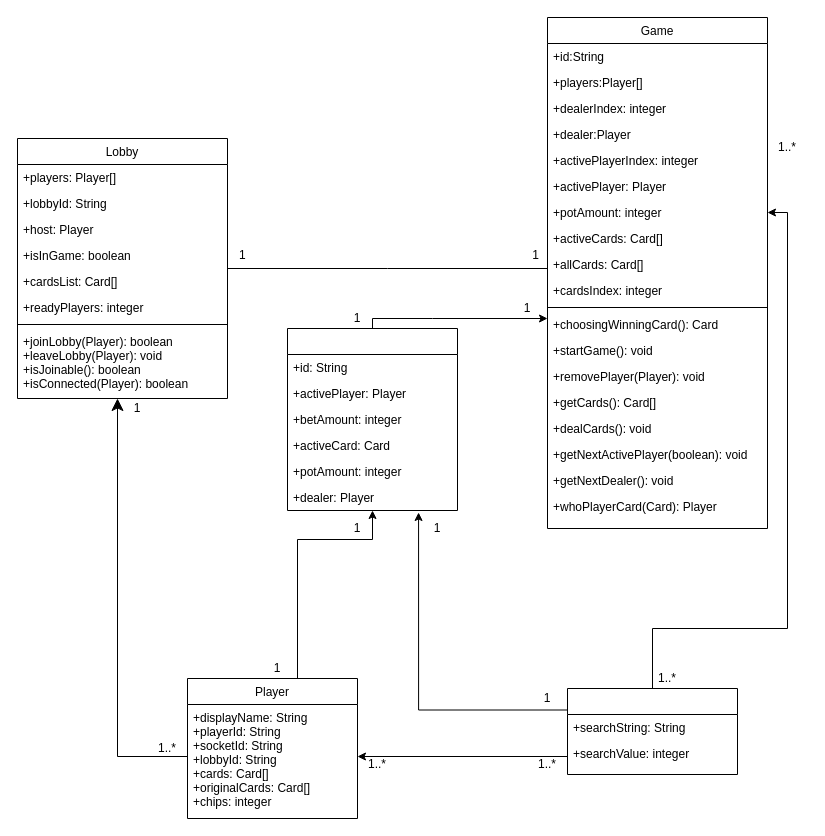
The diagram is 825 pixels wide and 836 high, and some of its shapes have lost their labels. The box of each missing label's shape, as (x1, y1, x2, y2) in pixels:
Card: (566, 688, 738, 774)
GameInfo: (286, 328, 458, 510)
